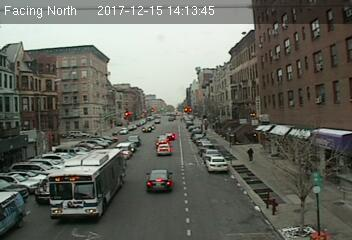bus: (48, 148, 128, 223)
car: (145, 169, 172, 192), (206, 155, 229, 173), (34, 179, 50, 204), (157, 143, 170, 155)
pedestrian: (246, 147, 255, 164)
truck: (1, 189, 26, 233)
